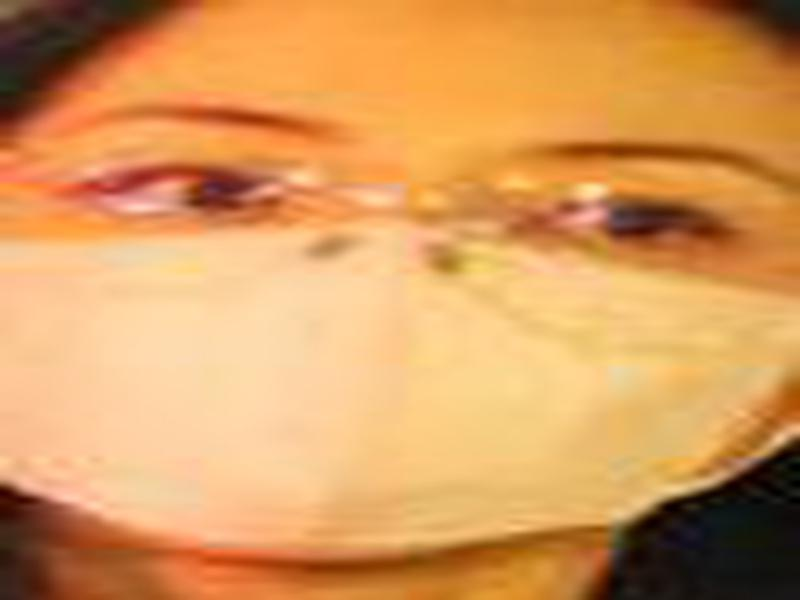with_mask: (1, 1, 797, 565)
